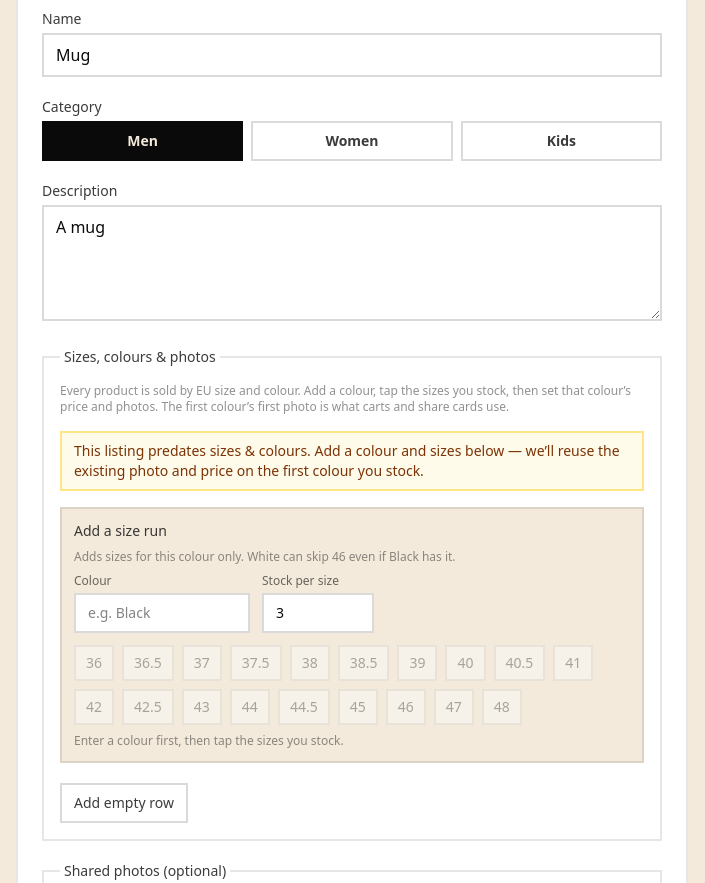
Test: editing an existing product › seeds a legacy single-SKU photo onto the first colour stocked
expect the text "predates sizes & colours" is shown: met, box x1=74 y1=441 x2=620 y2=480
Type "Black" into the field labelled "Colour" at (162, 613), box x1=74 y1=593 x2=250 y2=633
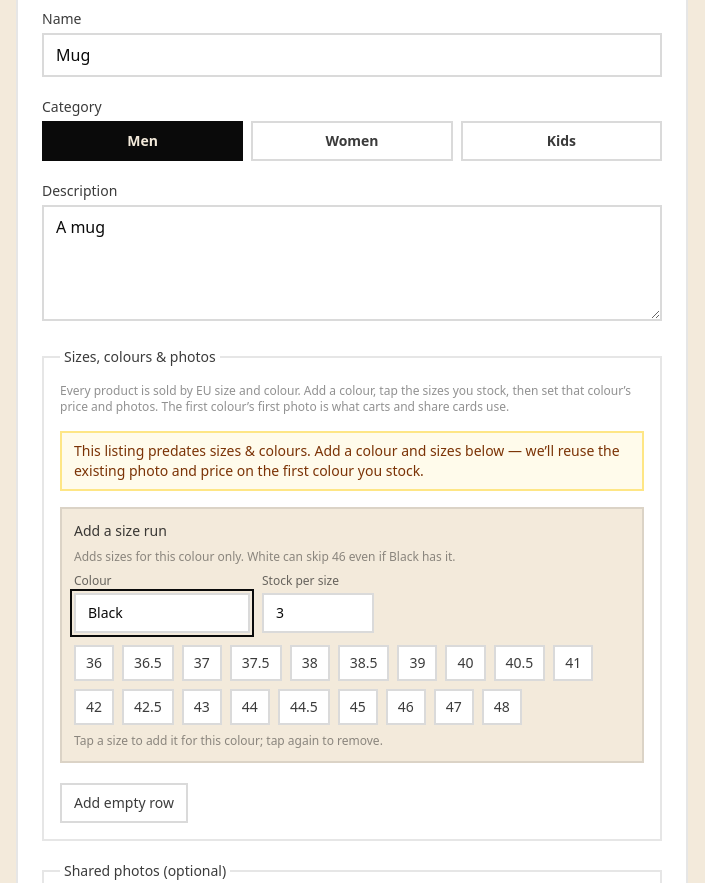
Click the button "42" at (94, 707), box x1=74 y1=689 x2=114 y2=725
(page scrolled)
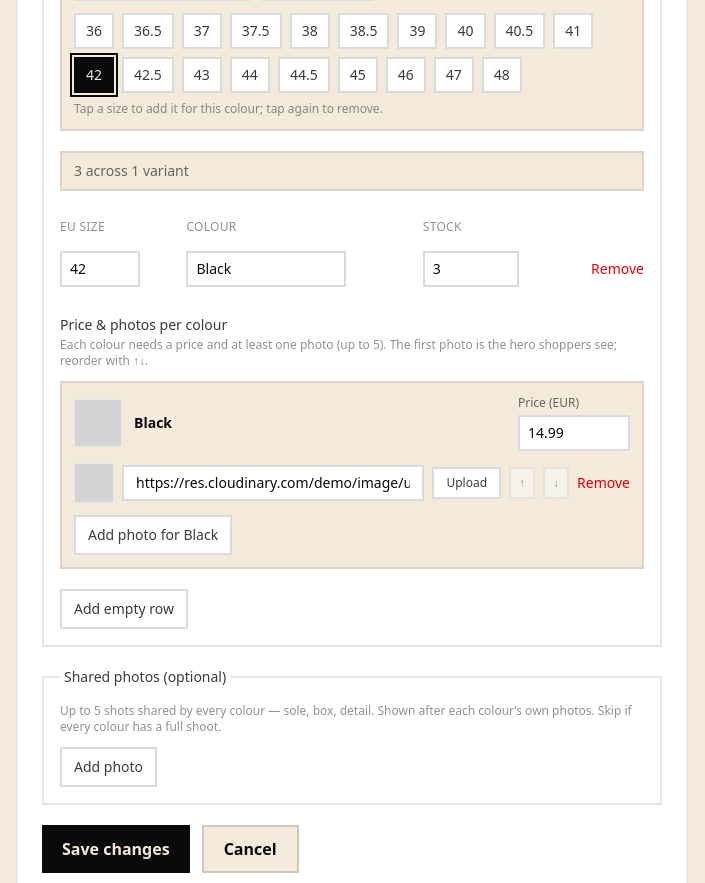
expect the field named "Black photo 1 URL" holds "https://res.cloudinary.com/demo/image/upload/runner.png": met, box x1=122 y1=465 x2=424 y2=501
expect the number field named "Price for Black" holds "14.99": met, box x1=518 y1=415 x2=630 y2=451
